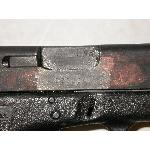Pistol: (0, 42, 150, 132)
